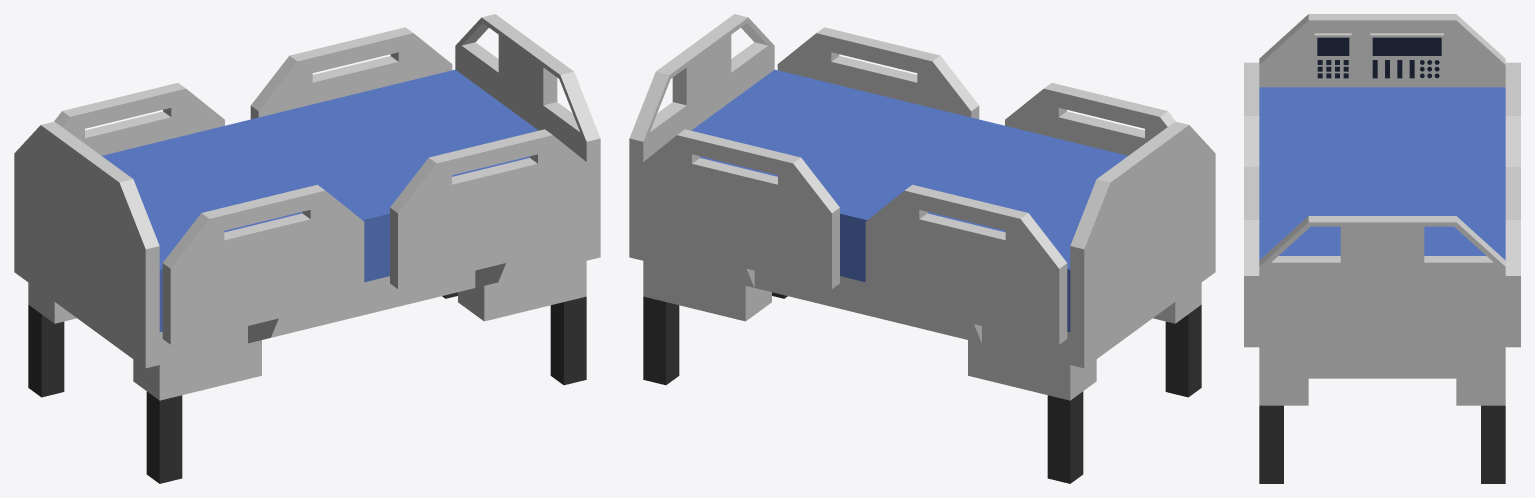
The model's file is NewBed_Block.fbx.
3 renders of one model, left to right at view 1: azimuth 30°, elevation 25°; view 2: azimuth 150°, elevation 25°; view 3: azimuth 270°, elevation 25°, orthographic. The views are drawn at different scales.
Visible parts, largest first — view 1: NewBed_Block001; view 2: NewBed_Block001; view 3: NewBed_Block001.
Boxes of the visible parts, box(x1,y1,x2,y2) form: NewBed_Block001: box(14, 14, 600, 483); NewBed_Block001: box(629, 14, 1215, 483); NewBed_Block001: box(1244, 14, 1520, 483).
Size of the model in its own units: 10 by 6 by 5.61.
